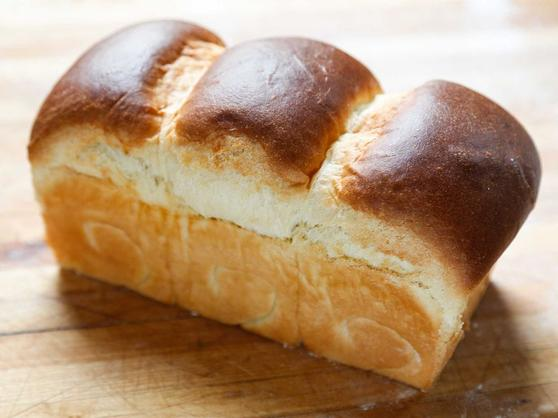white_bread: (27, 19, 540, 390)
